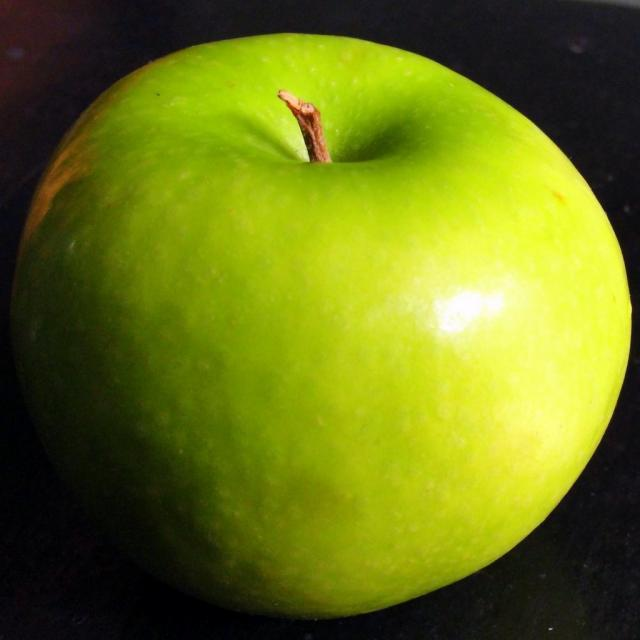Apple: (9, 32, 632, 620)
